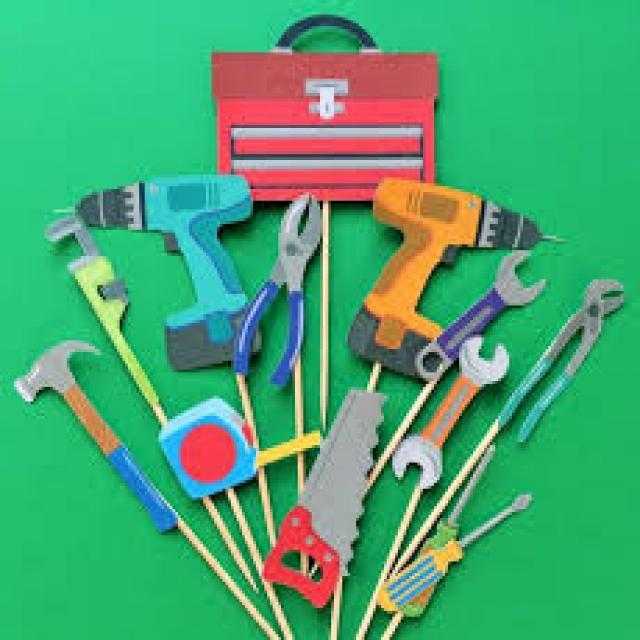drill: (328, 174, 576, 380), (40, 154, 268, 376)
hammer: (17, 336, 179, 542)
pliers: (499, 271, 625, 443), (234, 190, 326, 392)
screwdriver: (380, 487, 544, 612), (404, 441, 496, 618)
wrench: (409, 250, 547, 384), (396, 339, 506, 491)
